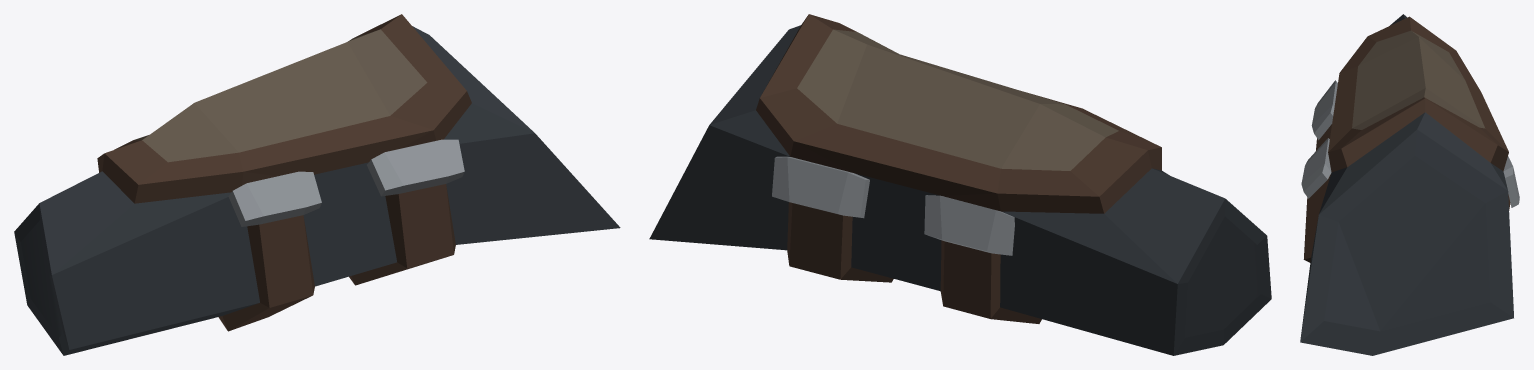
Rendered from Chr_ArmUpperRight_Female_09_Static.fbx.
3 renders of one model, left to right at view 1: azimuth 30°, elevation 25°; view 2: azimuth 150°, elevation 25°; view 3: azimuth 270°, elevation 25°, orthographic. The views are drawn at different scales.
Parts seen in each view (by area): view 1: Chr_ArmUpperRight_Female_09_Static; view 2: Chr_ArmUpperRight_Female_09_Static; view 3: Chr_ArmUpperRight_Female_09_Static.
Part boxes in pixels (box(x1,y1,x2,y2)): Chr_ArmUpperRight_Female_09_Static: box(14, 14, 620, 355); Chr_ArmUpperRight_Female_09_Static: box(649, 14, 1271, 355); Chr_ArmUpperRight_Female_09_Static: box(1300, 14, 1519, 355).
Bounding box in the file's own units: 0.3535 × 0.1607 × 0.1397.
